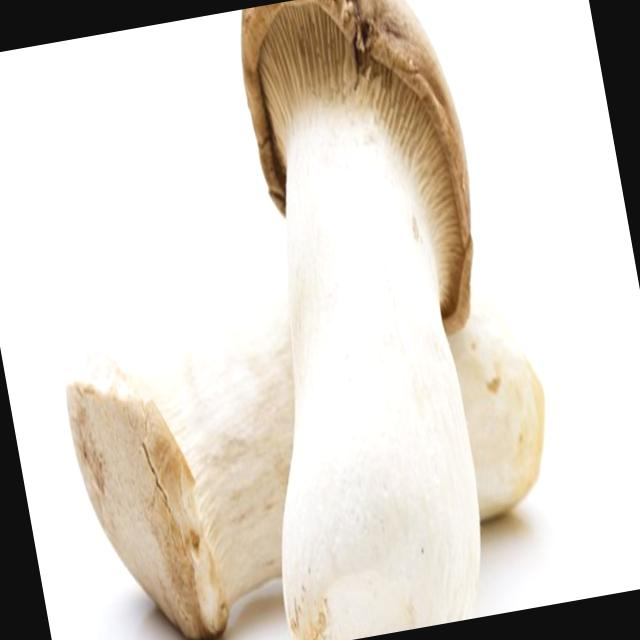Pleurotus eryngii: (185, 0, 546, 640), (55, 269, 575, 640)
